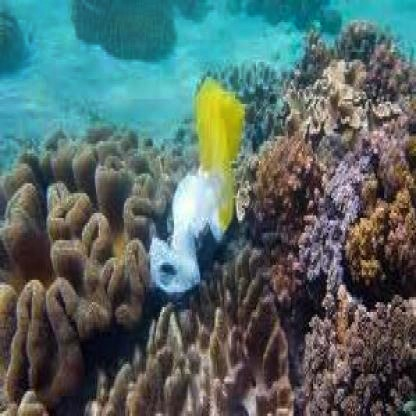pbag: (150, 77, 244, 292)
